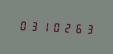one: (39, 19, 49, 33)
six: (72, 20, 82, 35)
three: (28, 18, 38, 33), (83, 21, 93, 35)
two: (61, 20, 71, 34)
zero: (17, 17, 27, 32), (50, 19, 60, 34)
